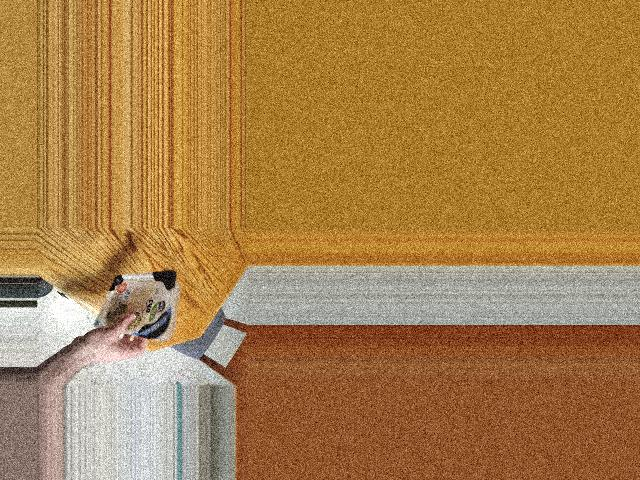cheese: (110, 274, 183, 342)
